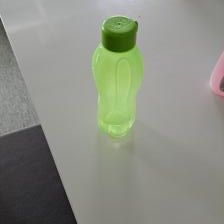bottle: (91, 12, 143, 140)
